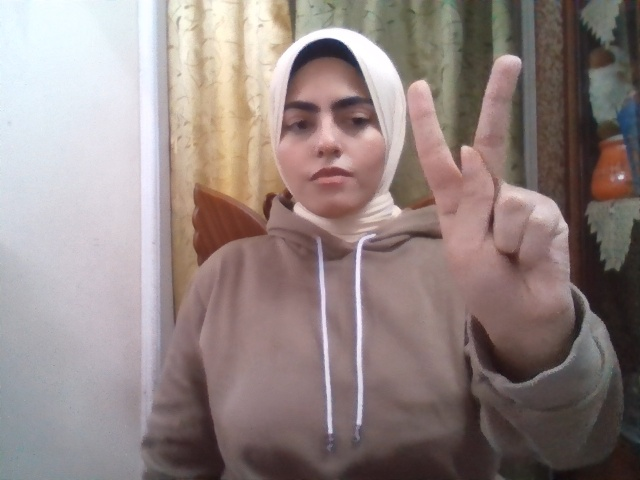K: (408, 55, 572, 326)
